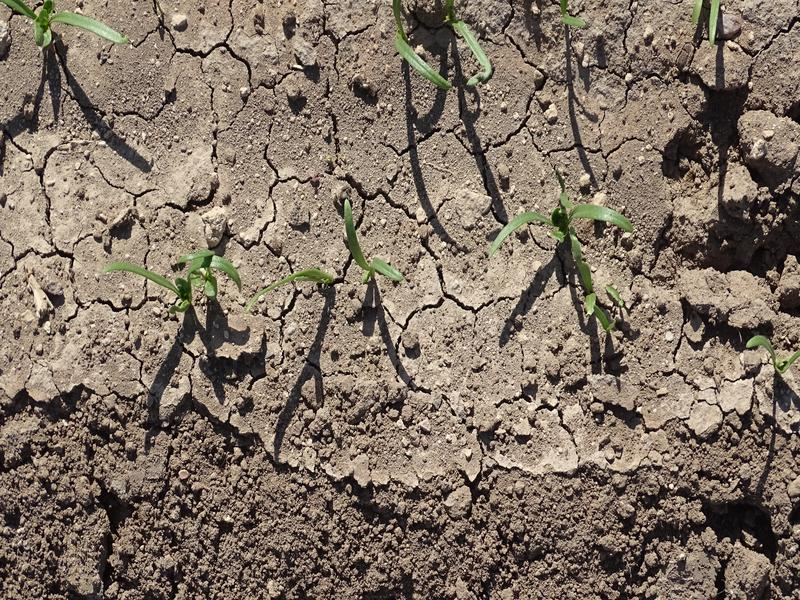Espinaca: (490, 197, 633, 331), (107, 250, 240, 304), (395, 22, 495, 93), (337, 196, 405, 284), (7, 3, 129, 47), (253, 264, 334, 294), (694, 1, 724, 43)
